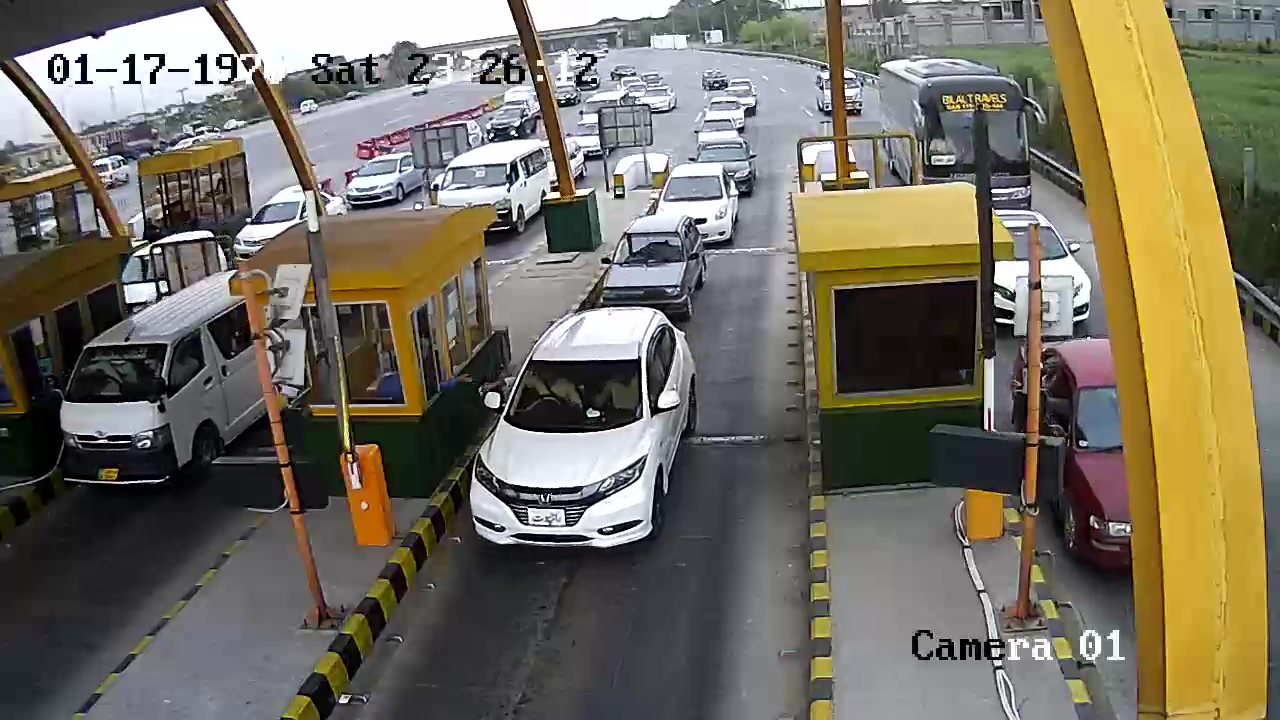F1: (460, 301, 725, 560)
